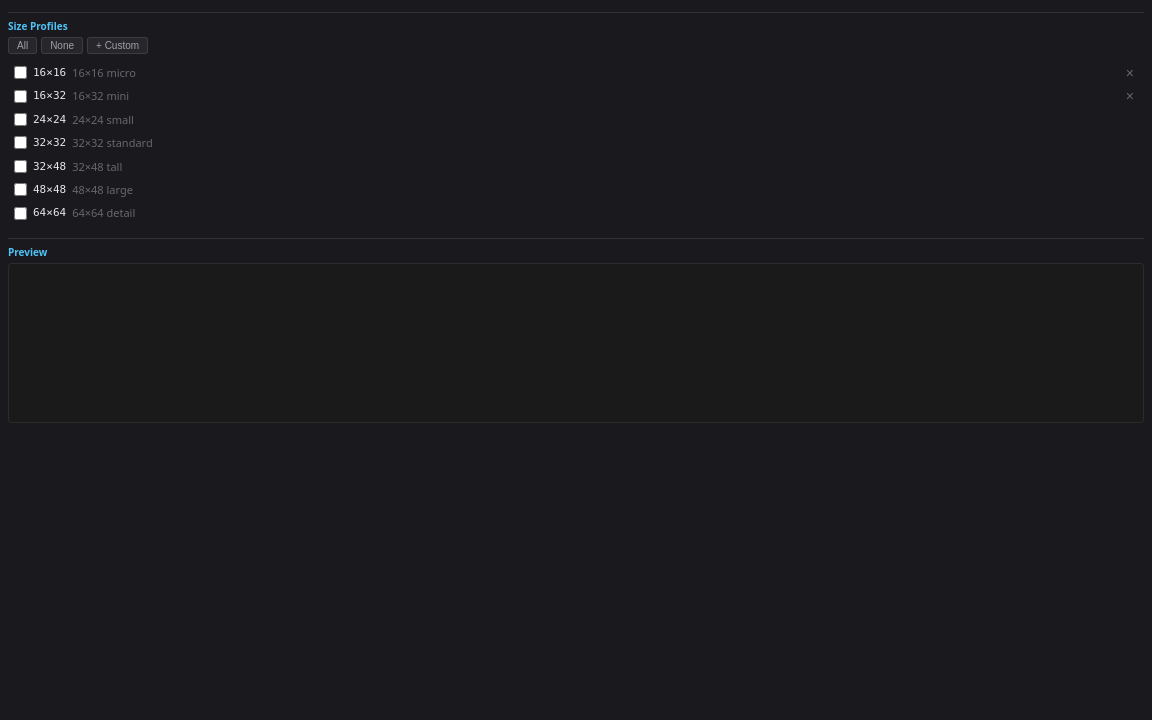
Test case: VectorReductionPanel › adding a custom profile appears in the list
Click the button "+ Custom" at (118, 46), box [87, 37, 148, 54]
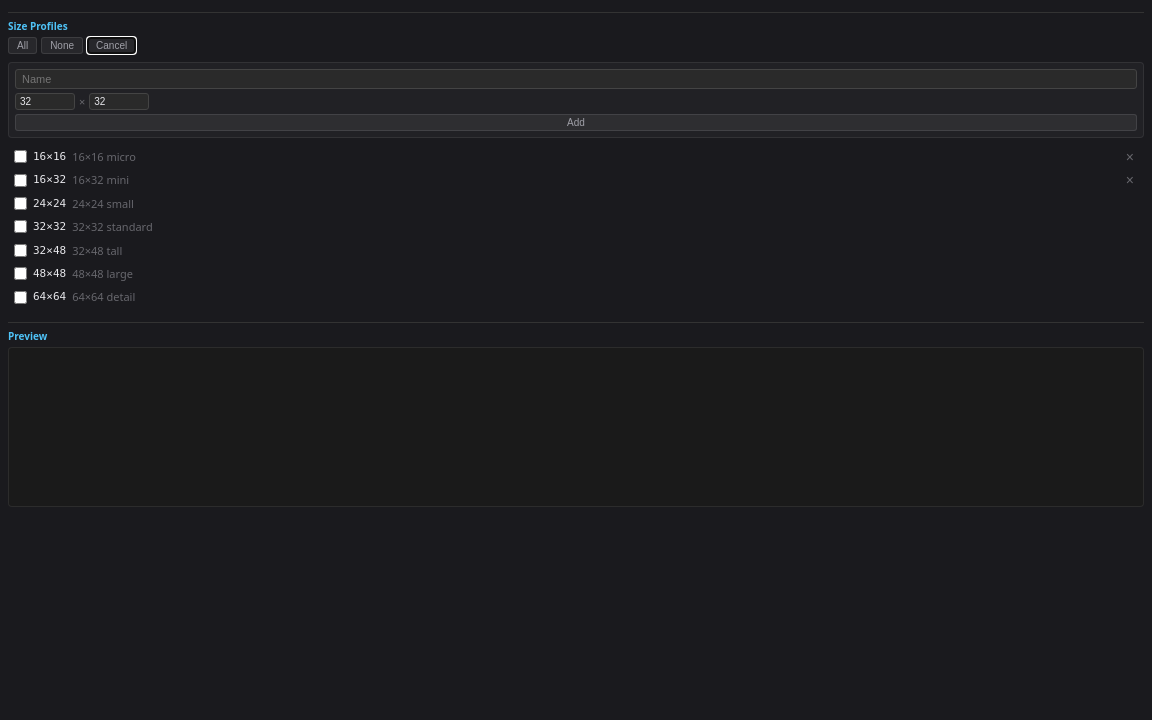
Type "My Size" into the field with placeholder "Name" at (576, 79), box [15, 69, 1137, 89]
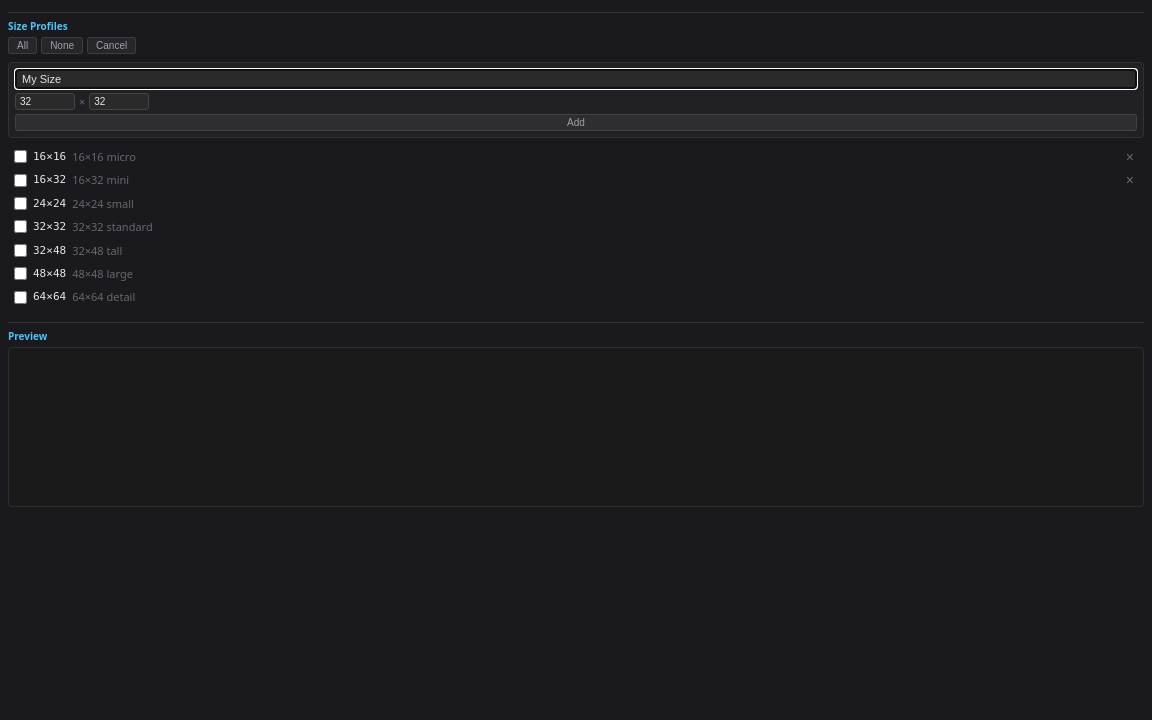
Click the button "Add" at (576, 122), box [15, 114, 1137, 131]
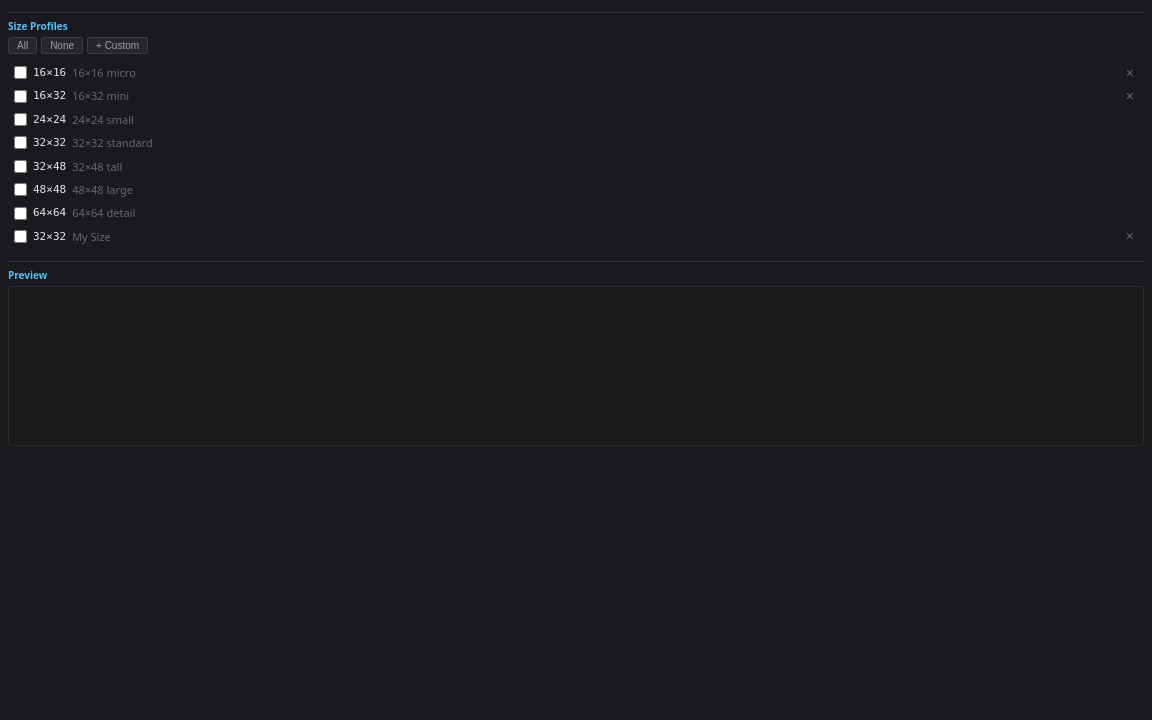
Expected: the text "My Size" is shown, [72, 229, 111, 244]
